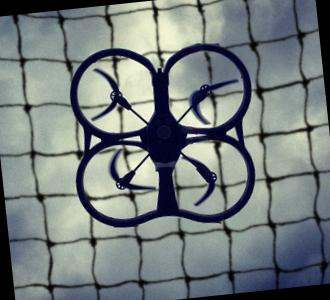drone: (55, 38, 273, 234)
